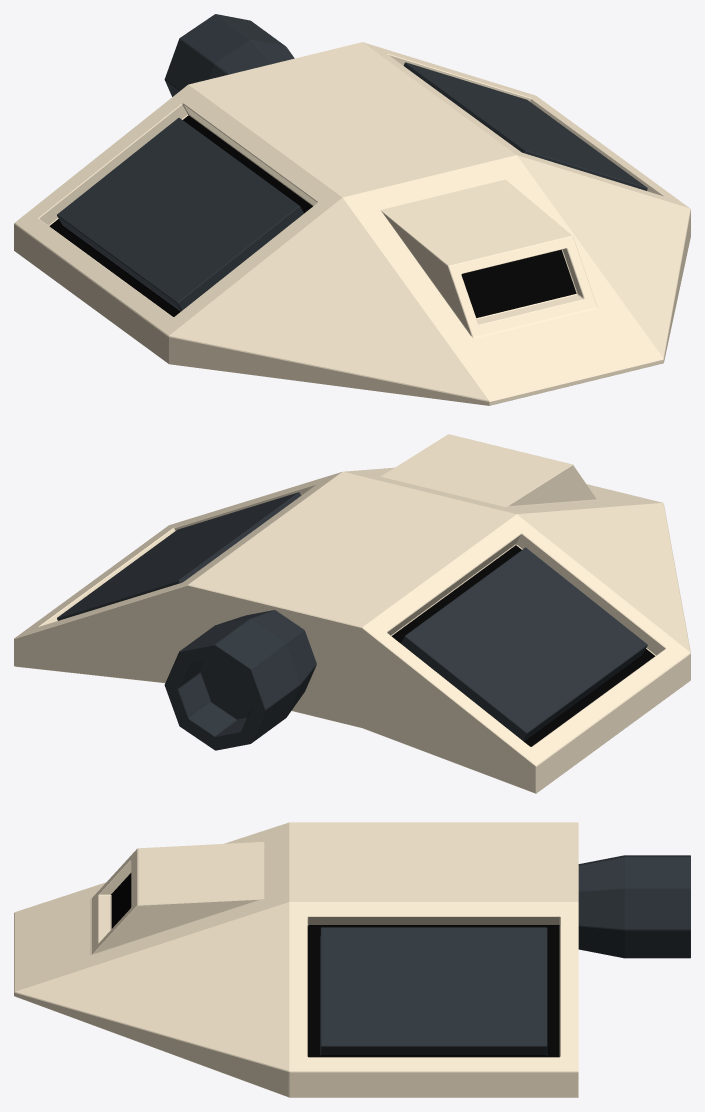
Rendered from spaceship.fbx.
3 views of the same model, one above another, from view 1: azimuth 30°, elevation 25°; view 2: azimuth 150°, elevation 25°; view 3: azimuth 270°, elevation 25° (orthographic). The views are drawn at different scales.
Parts seen in each view (by area): view 1: LowPolySpaceship; view 2: LowPolySpaceship; view 3: LowPolySpaceship.
Boxes of the visible parts, x1,y1,x2,y2 form: LowPolySpaceship: (14,14,690,405); LowPolySpaceship: (14,434,690,793); LowPolySpaceship: (14,822,690,1097).
Bounding box in the file's own units: 200 × 47.37 × 240.
